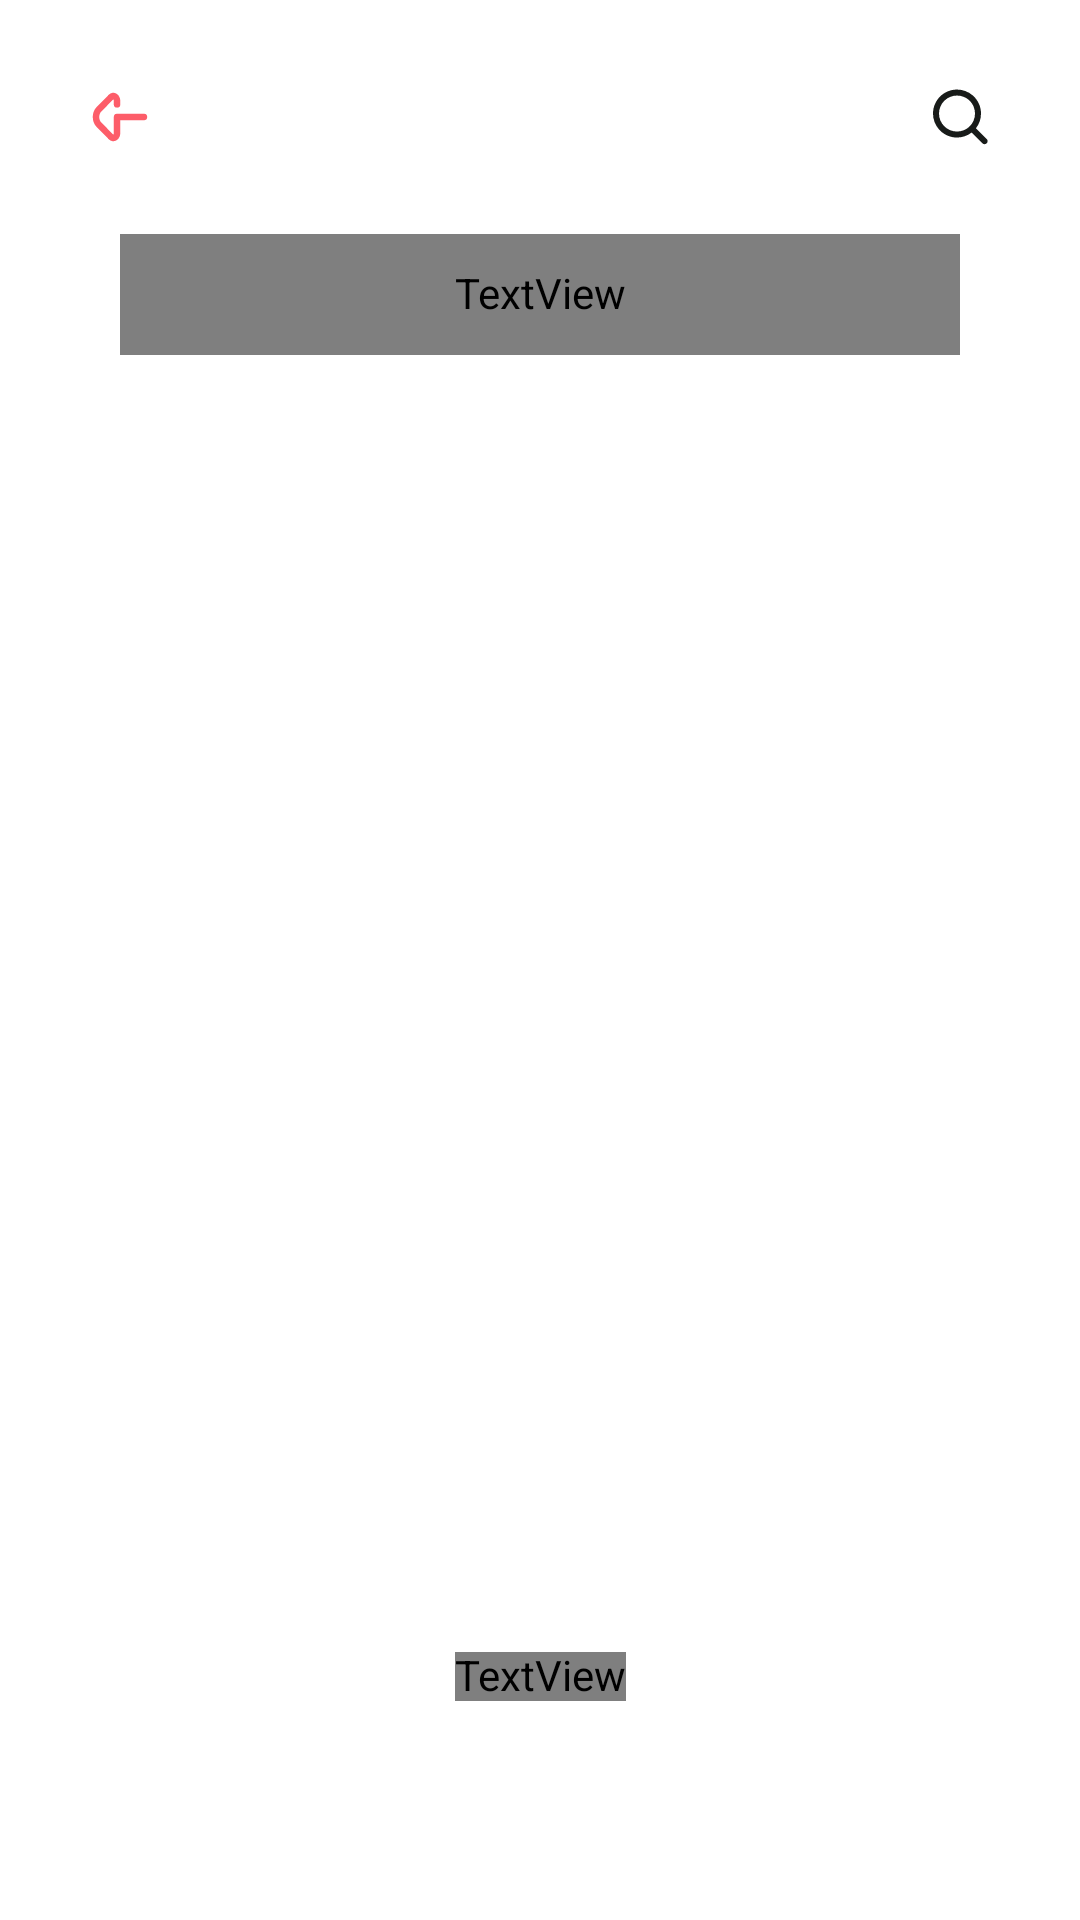

Screen size 1080w x 1920h. Icon name, then its center in pixels as [x,y]:
back: [119,117]
search: [960,117]
